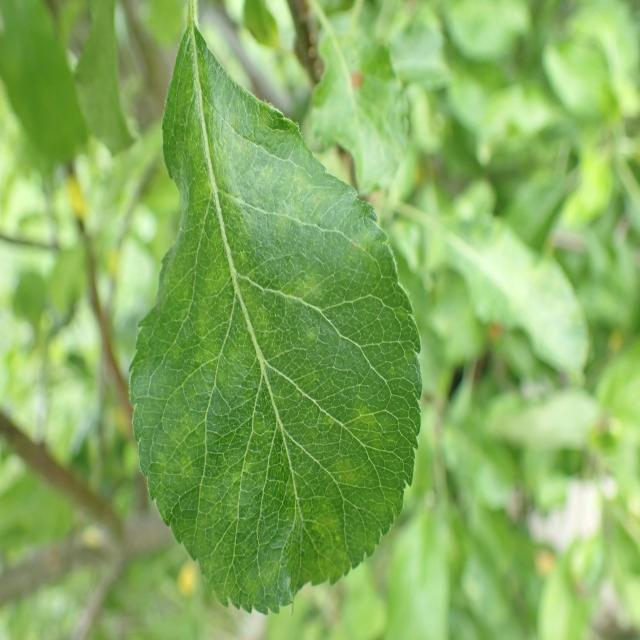scab: (138, 42, 384, 584)
